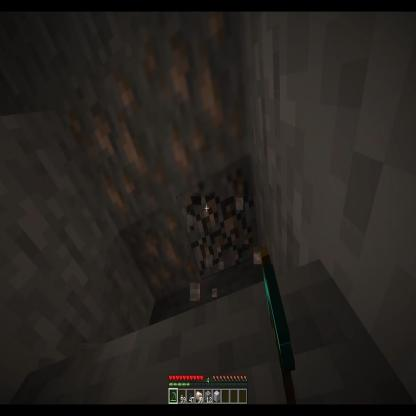iron ore: (138, 13, 254, 196), (67, 72, 173, 236), (176, 153, 256, 282), (121, 202, 187, 307)
